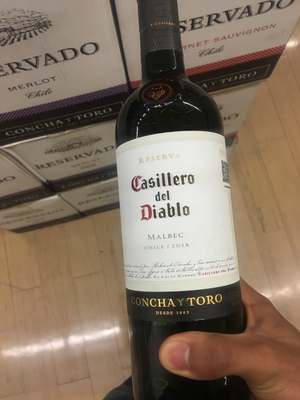casillero del diablo malbec: (106, 15, 255, 400)
